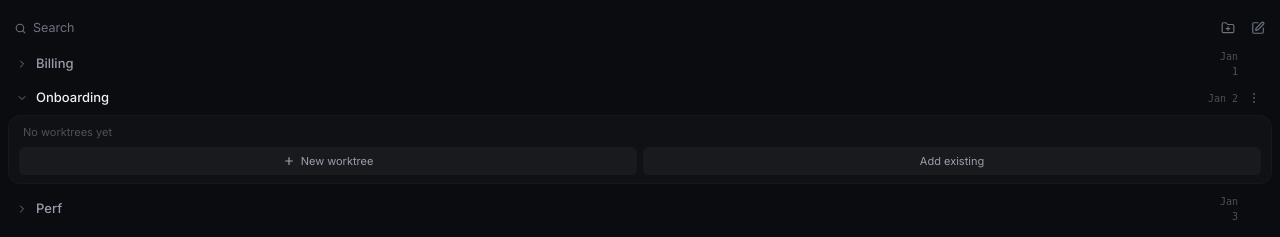
Test: SidebarBody: the active Focus › search filters Focus names and the worktrees in them, expanding a Focus whose worktree matches; Esc clears
The image size is (1280, 237).
Click the button "Search" at (54, 27), box [8,14,1212,42]
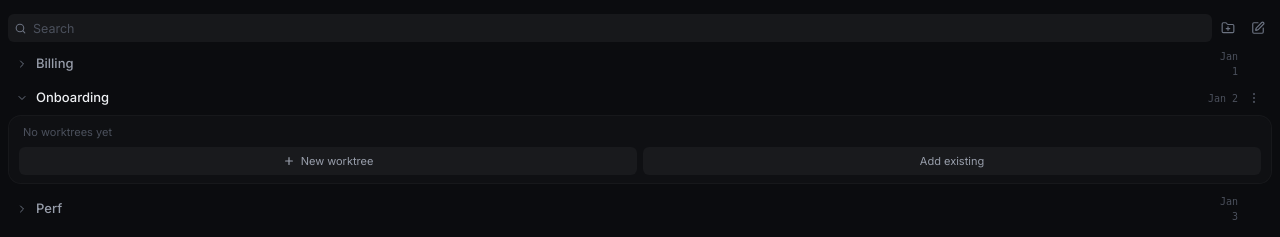
Type "per" into the field named "Search focuses and worktrees" at (620, 28), box [33,14,1206,42]
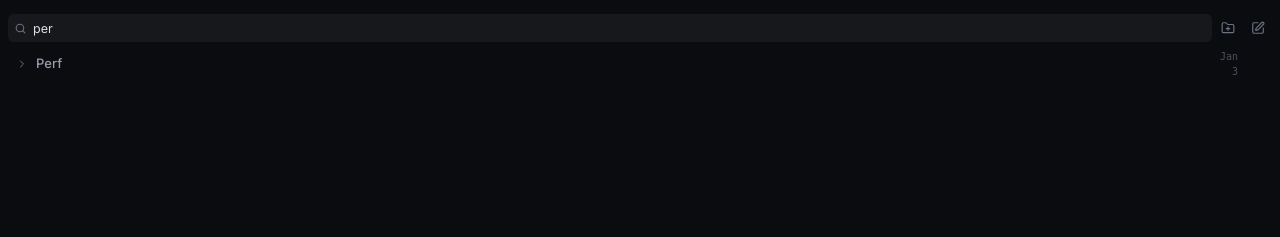
A worktree's name: its Focus shows, expanded though it isn't active, with that card.
Replace the text in the field named "Search focuses and worktrees" with "FX-41" at (620, 28), box [33,14,1206,42]
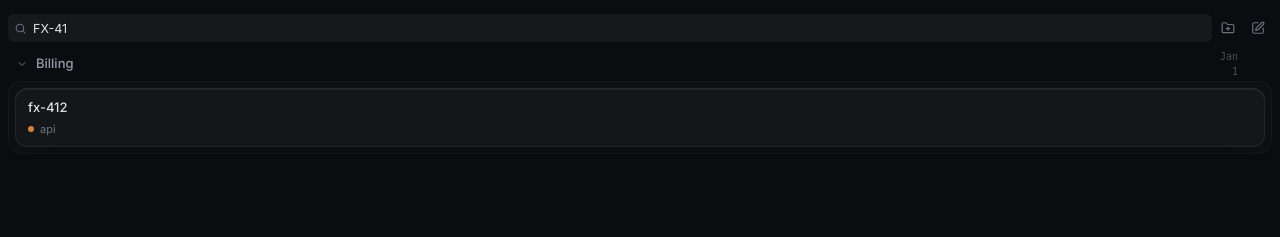
Check: the button "fx-412" is shown, box [28,97,1256,117]
Replace the text in the field named "Search focuses and worktrees" with "nothing like it" at (620, 28), box [33,14,1206,42]
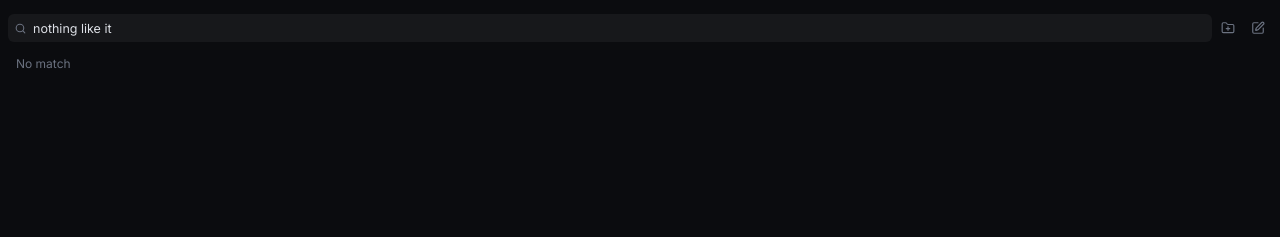
Check: the text "No match" is shown, box [16,56,71,71]
Press Escape in the field named "Search focuses and worktrees", box [33,14,1206,42]
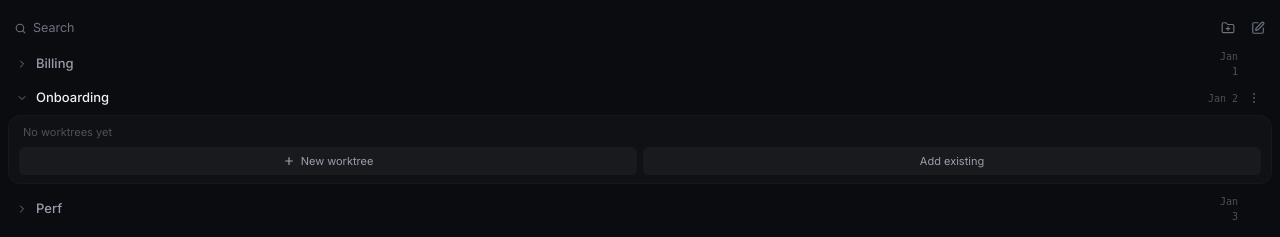
Check: the number of elements with test id "focus-group" is 1, box [9,116,1271,183]
